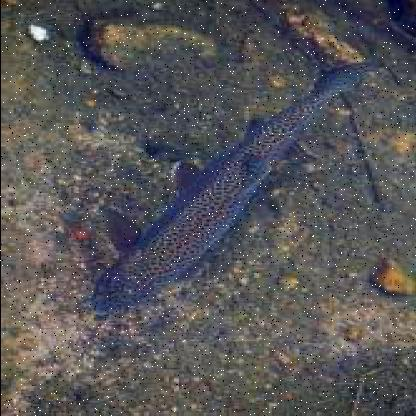fish: (91, 59, 376, 307)
